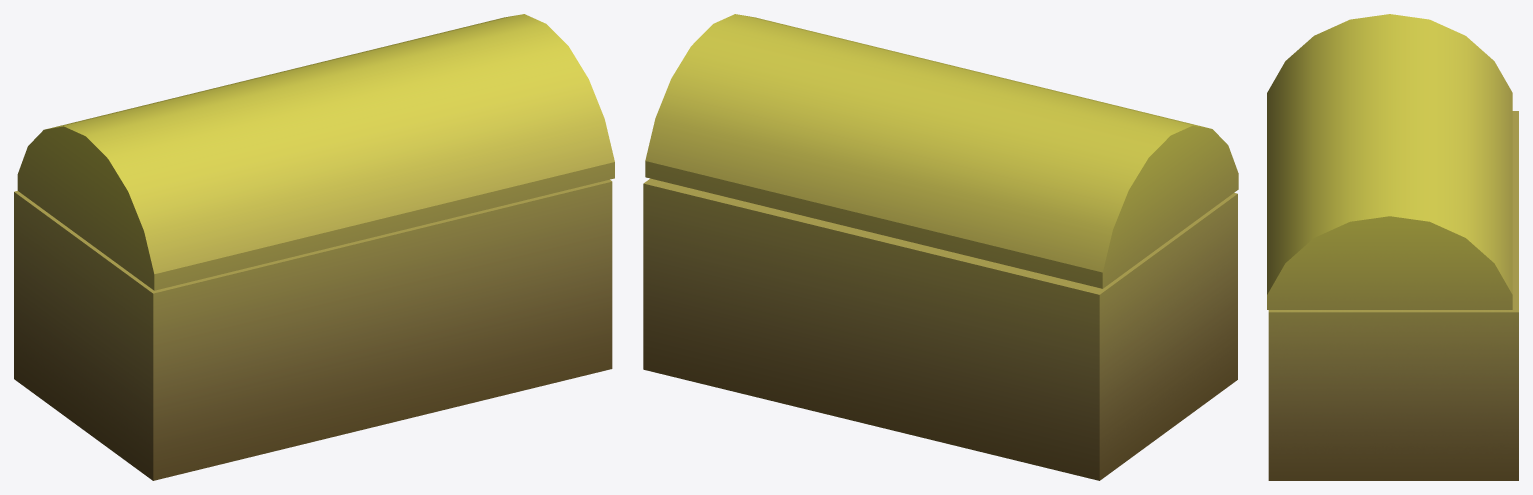
The model's file is SM_Chest.fbx.
The picture shows the model from 3 angles, left to right: view 1: azimuth 30°, elevation 25°; view 2: azimuth 150°, elevation 25°; view 3: azimuth 270°, elevation 25°; orthographic projection. The views are drawn at different scales.
Parts seen in each view (by area): view 1: SM_Chest; view 2: SM_Chest; view 3: SM_Chest.
Part boxes in pixels (x1,y1,x2,y2): SM_Chest: (14, 14, 614, 480); SM_Chest: (643, 14, 1238, 480); SM_Chest: (1267, 14, 1518, 480).
Size of the model in its own units: 130 by 79.42 by 68.31.
